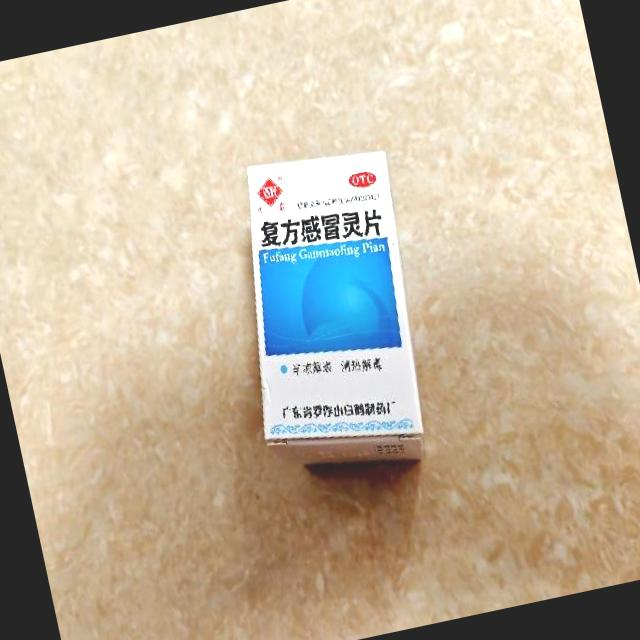box: (207, 136, 448, 489)
